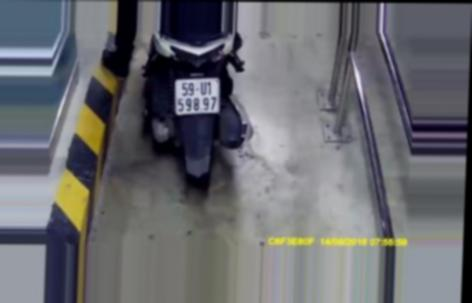License_Plate: (169, 75, 223, 116)
